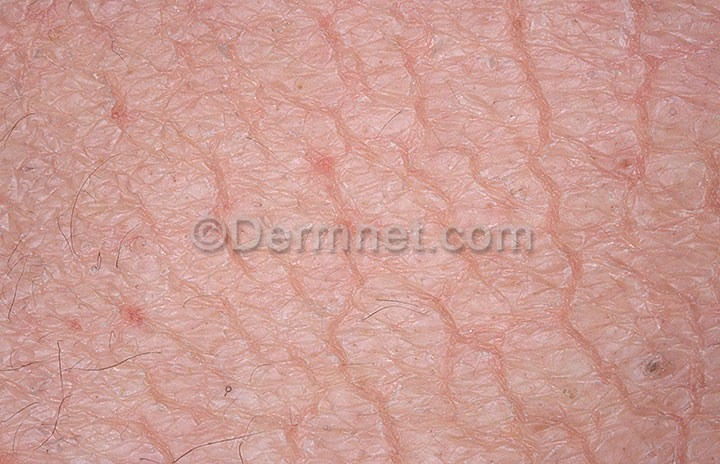Eczema: (2, 1, 718, 459)
